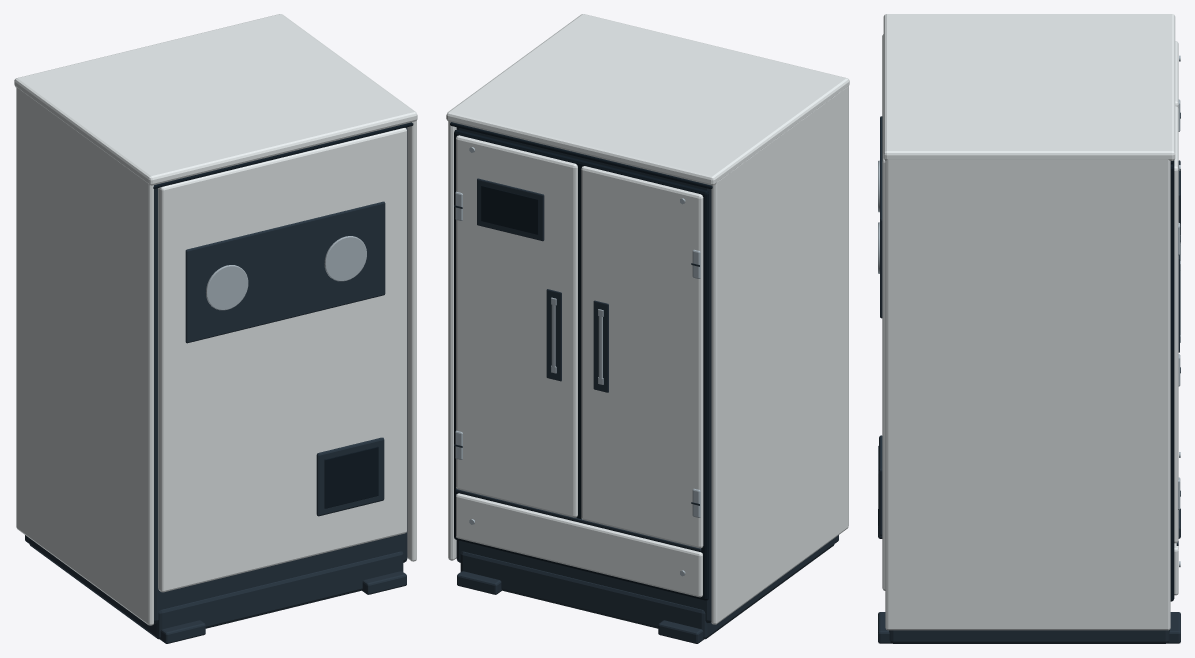
Rendered from cdu.glb.
The picture shows the model from 3 angles, left to right: view 1: azimuth 30°, elevation 25°; view 2: azimuth 150°, elevation 25°; view 3: azimuth 270°, elevation 25°; orthographic projection. The views are drawn at different scales.
Visible parts, largest first — view 1: cdu_paint, cdu_graphite, cdu_insert, cdu_silver; view 2: cdu_paint, cdu_graphite, cdu_insert, cdu_silver; view 3: cdu_paint, cdu_graphite, cdu_insert, cdu_silver.
Part boxes in pixels (x1,y1,x2,y2): cdu_paint: (14, 14, 417, 625); cdu_graphite: (25, 127, 407, 643); cdu_insert: (153, 122, 413, 508); cdu_silver: (206, 236, 366, 310); cdu_paint: (446, 14, 849, 624); cdu_graphite: (454, 127, 838, 643); cdu_insert: (450, 122, 712, 600); cdu_silver: (455, 147, 700, 576); cdu_paint: (882, 14, 1178, 630); cdu_graphite: (878, 112, 1180, 643); cdu_insert: (878, 160, 1180, 601); cdu_silver: (878, 55, 1180, 567).
Size of the model in its own units: 1.2 by 2 by 1.1.
